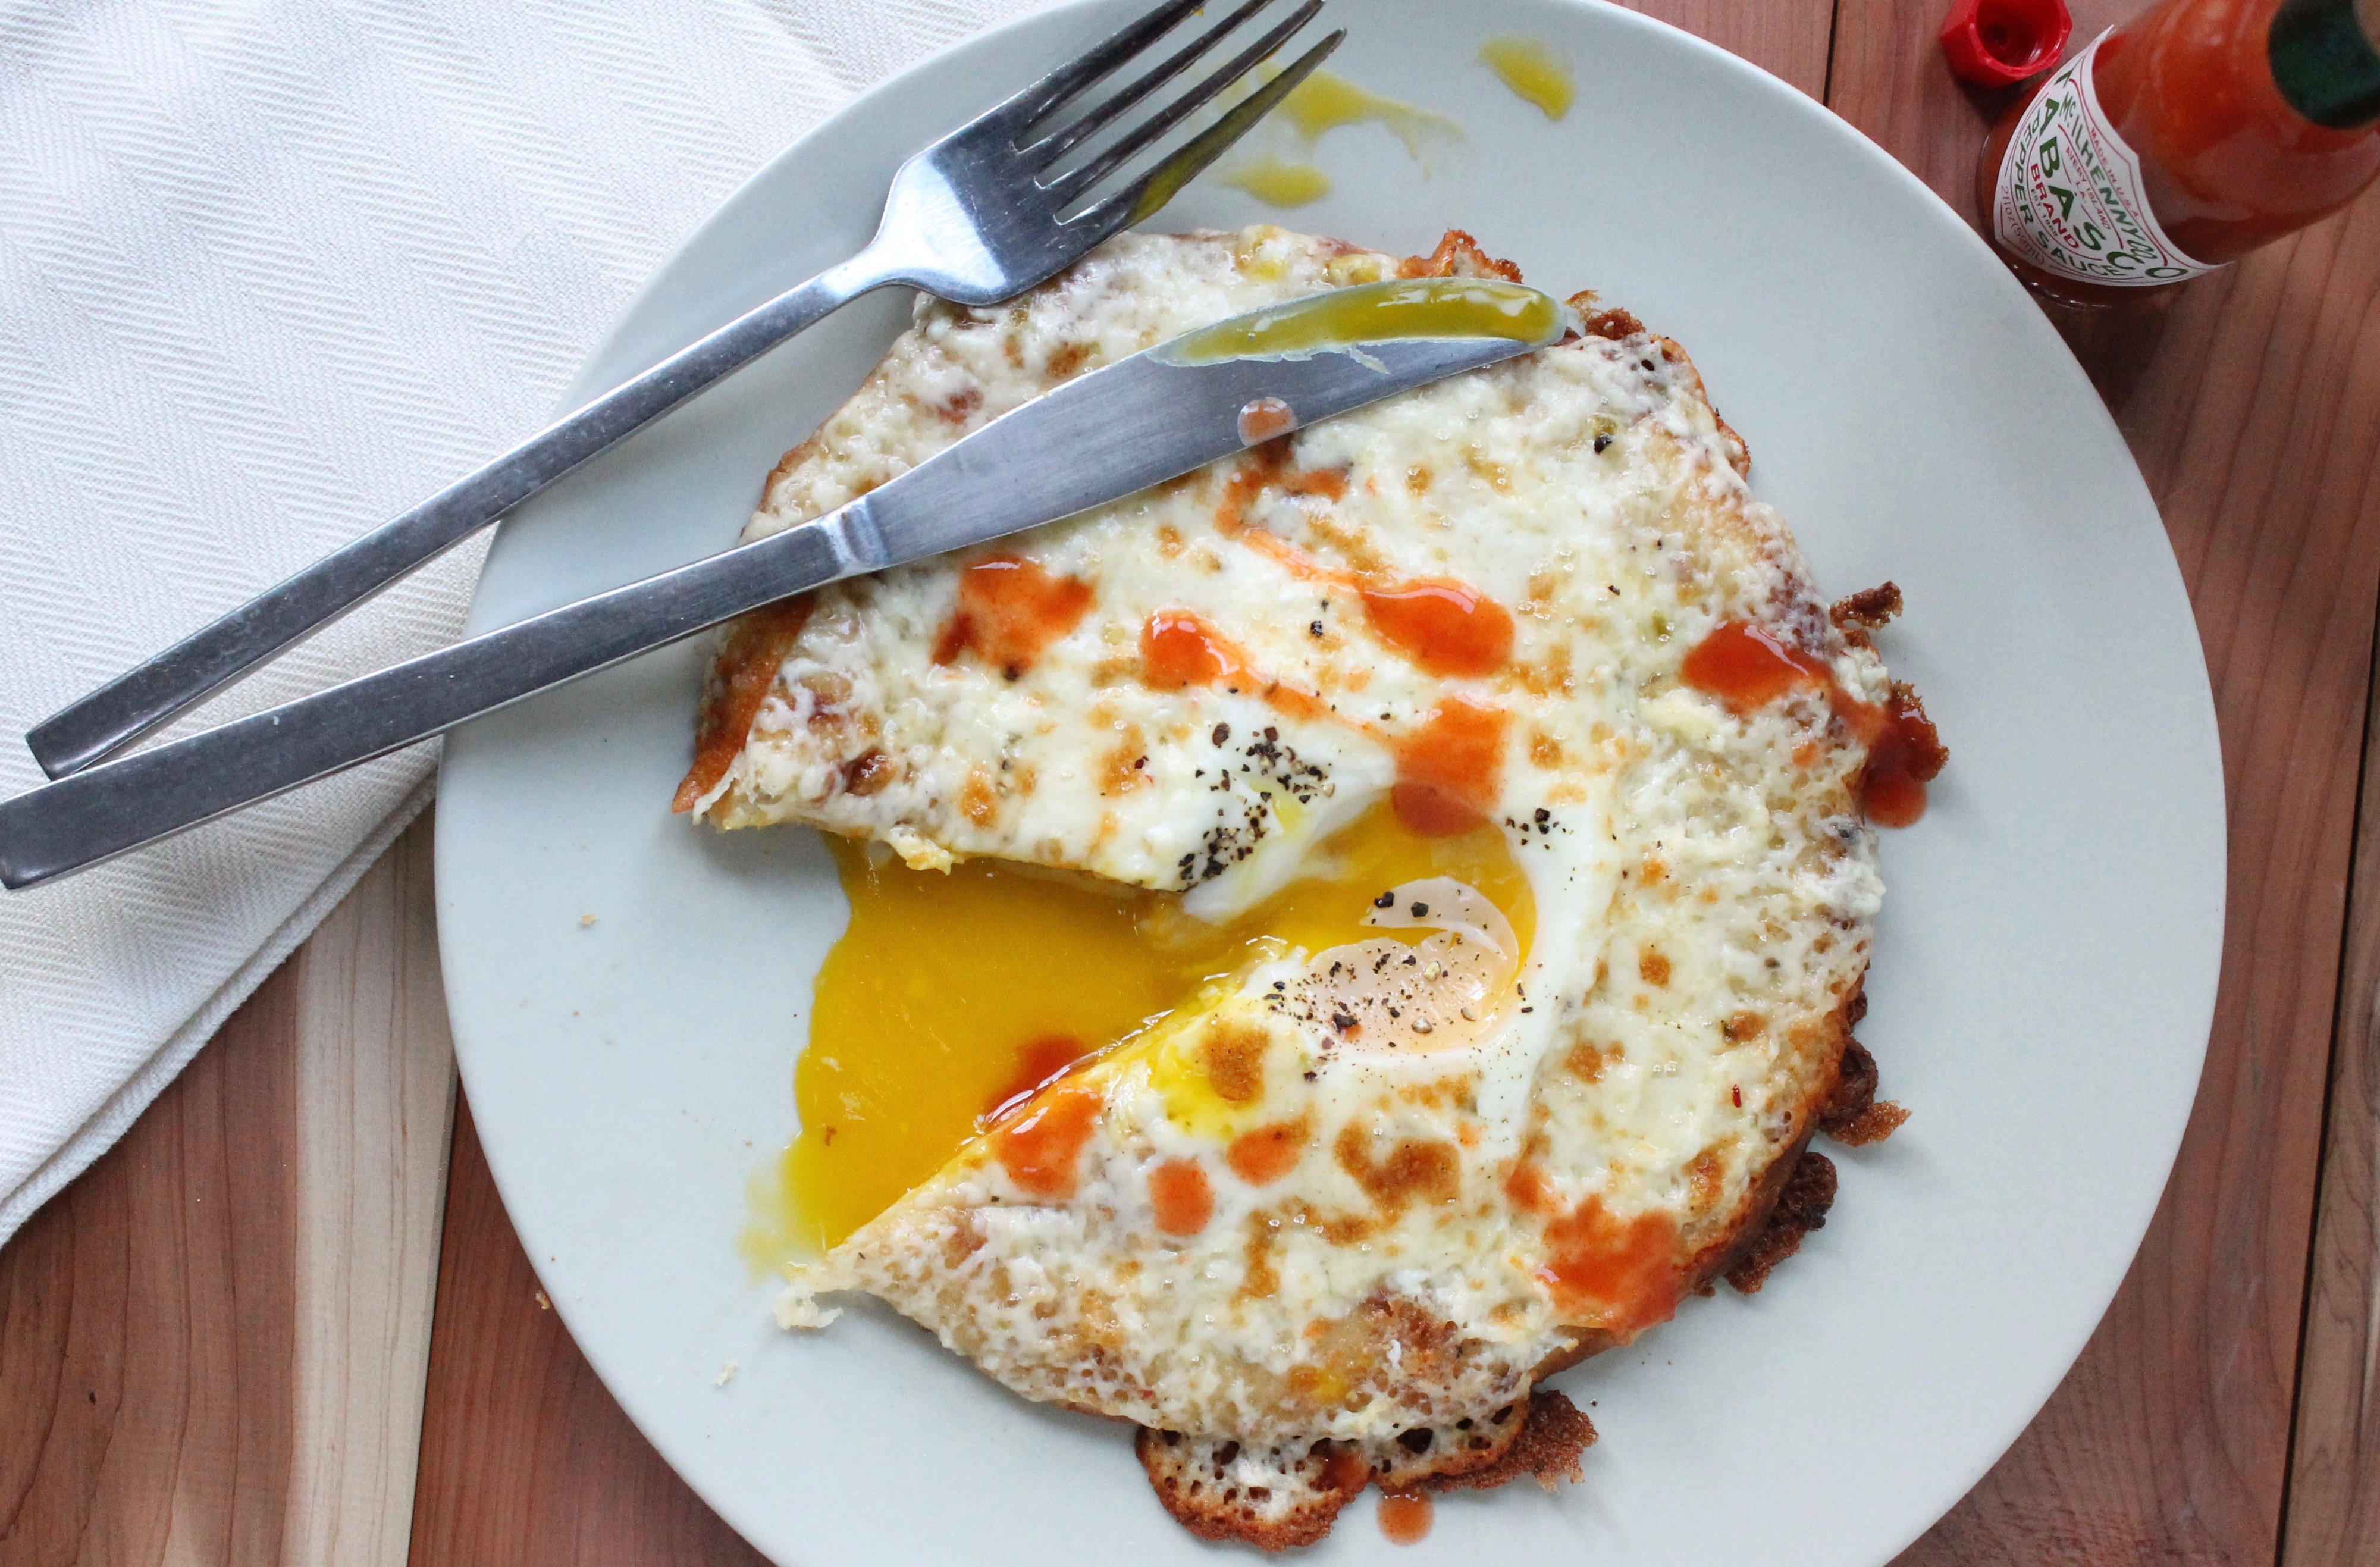fried egg: (794, 317, 1873, 1403)
